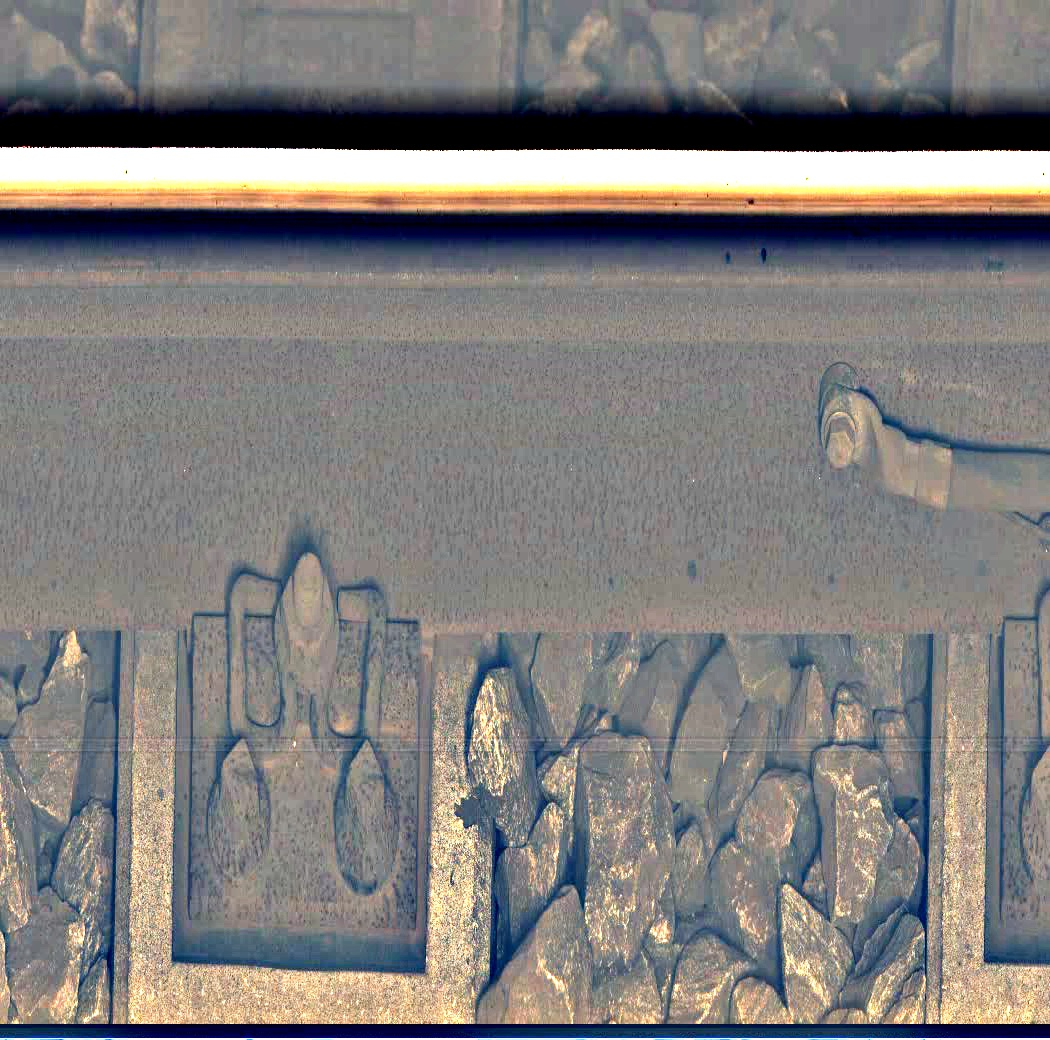cable: (799, 347, 1050, 557)
tension_clamp: (159, 541, 474, 994), (978, 561, 1050, 989)
